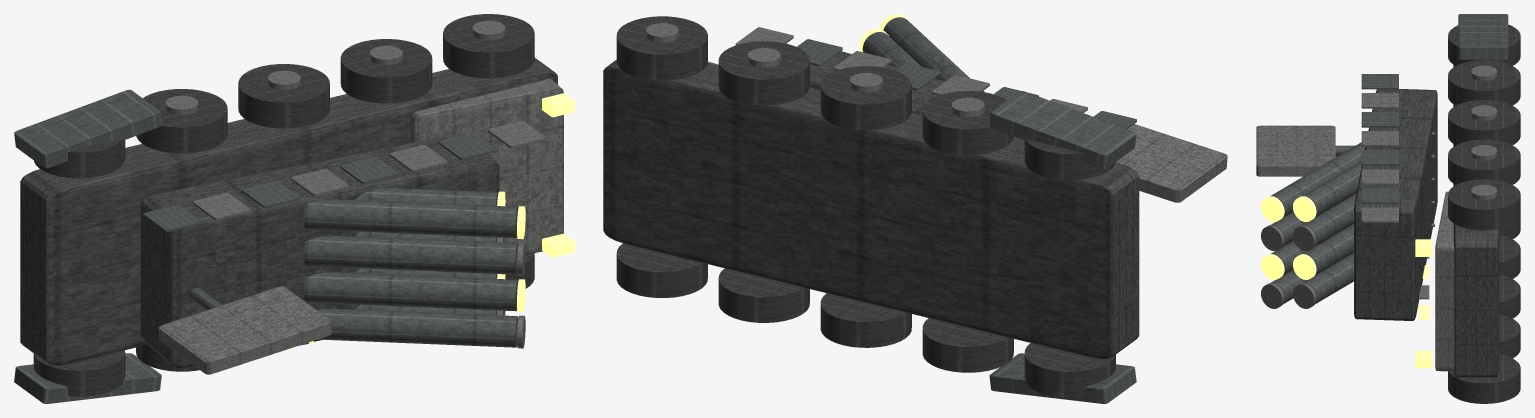
The model's file is c-u17-long-range-sam-lod0.glb.
3 renders of one model, left to right at view 1: azimuth 30°, elevation 25°; view 2: azimuth 150°, elevation 25°; view 3: azimuth 270°, elevation 25°, orthographic. The views are drawn at different scales.
Parts seen in each view (by area): view 1: chassis_lower, upper_hull, chassis_nose, sam_track_array, long_sam_tube_8, long_sam_tube_7, long_sam_tube_6, long_sam_tube_5, sam_jack_1, chassis_wheel_1_3, chassis_wheel_1_2, chassis_wheel_1_4 (+23 smaller); view 2: chassis_lower, sam_jack_1, sam_track_array, chassis_wheel_1_4, chassis_wheel_1_3, chassis_wheel_1_2, chassis_wheel_1_1, chassis_wheel_-1_1, chassis_wheel_-1_2, chassis_wheel_-1_3, chassis_wheel_-1_4, chassis_wheel_-1_0 (+14 smaller); view 3: upper_hull, chassis_lower, sam_track_array, chassis_nose, chassis_wheel_1_4, chassis_wheel_1_3, chassis_wheel_1_1, chassis_wheel_1_2, sam_jack_1, chassis_wheel_-1_4, long_sam_tube_8, long_sam_tube_4 (+33 smaller).
Part boxes in pixels (left/top/right/bottom): chassis_lower: left=20, top=57, right=557, bottom=365; upper_hull: left=140, top=134, right=499, bottom=367; chassis_nose: left=410, top=79, right=563, bottom=254; sam_track_array: left=158, top=286, right=331, bottom=374; long_sam_tube_8: left=304, top=199, right=518, bottom=238; long_sam_tube_7: left=304, top=235, right=518, bottom=274; long_sam_tube_6: left=304, top=272, right=518, bottom=311; long_sam_tube_5: left=317, top=308, right=518, bottom=347; sam_jack_1: left=14, top=89, right=161, bottom=168; chassis_wheel_1_3: left=340, top=39, right=432, bottom=103; chassis_wheel_1_2: left=238, top=64, right=329, bottom=128; chassis_wheel_1_4: left=443, top=14, right=534, bottom=78; chassis_lower: left=603, top=60, right=1139, bottom=358; sam_jack_1: left=989, top=91, right=1136, bottom=169; sam_track_array: left=1116, top=124, right=1227, bottom=202; chassis_wheel_1_4: left=616, top=16, right=707, bottom=80; chassis_wheel_1_3: left=718, top=41, right=809, bottom=105; chassis_wheel_1_2: left=820, top=66, right=911, bottom=130; chassis_wheel_1_1: left=922, top=91, right=1013, bottom=155; chassis_wheel_-1_1: left=922, top=318, right=1013, bottom=372; chassis_wheel_-1_2: left=820, top=293, right=911, bottom=347; chassis_wheel_-1_3: left=718, top=268, right=809, bottom=322; chassis_wheel_-1_4: left=616, top=243, right=707, bottom=297; chassis_wheel_-1_0: left=1024, top=343, right=1115, bottom=397; upper_hull: left=1354, top=89, right=1437, bottom=320; chassis_lower: left=1453, top=65, right=1498, bottom=377; sam_track_array: left=1256, top=125, right=1335, bottom=176; chassis_nose: left=1435, top=191, right=1454, bottom=371; chassis_wheel_1_4: left=1448, top=179, right=1520, bottom=230; chassis_wheel_1_3: left=1448, top=139, right=1520, bottom=184; chassis_wheel_1_1: left=1448, top=60, right=1520, bottom=105; chassis_wheel_1_2: left=1448, top=100, right=1520, bottom=145; sam_jack_1: left=1458, top=14, right=1508, bottom=59; chassis_wheel_-1_4: left=1448, top=354, right=1520, bottom=403; long_sam_tube_8: left=1270, top=142, right=1365, bottom=217; long_sam_tube_4: left=1302, top=161, right=1361, bottom=217.
Size of what is drawn, in the model's own units: 8.35 by 4.35 by 4.7.
Materials: 6 (6 with a texture image).
